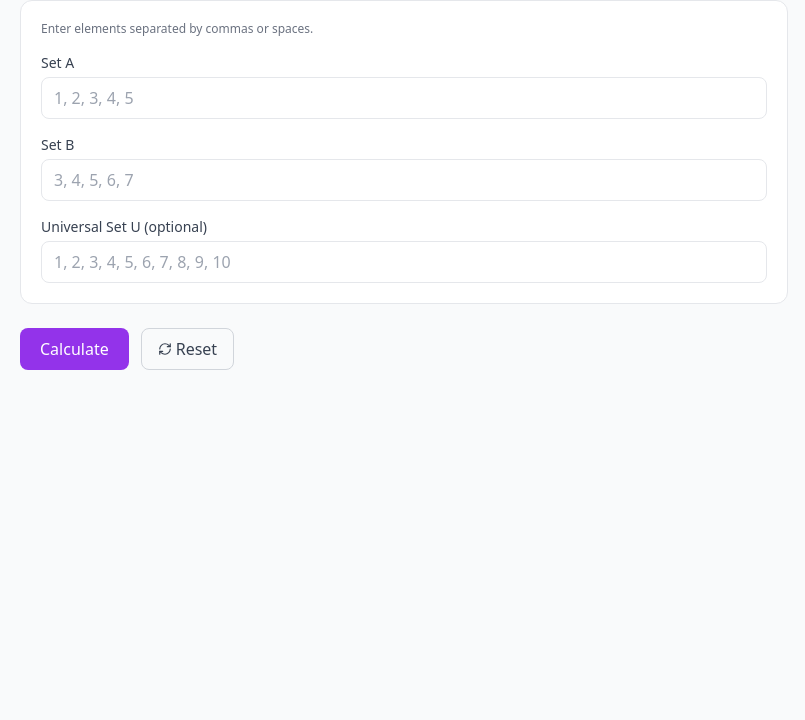
SetTheoryCalculator – functional › calculates set operations for two sets
The width and height of the screenshot is (805, 720).
Type "1, 2, 3, 4" into the field with placeholder "1, 2, 3, 4, 5".
click(404, 98); type("1, 2, 3, 4")  # box [41,77,767,119]
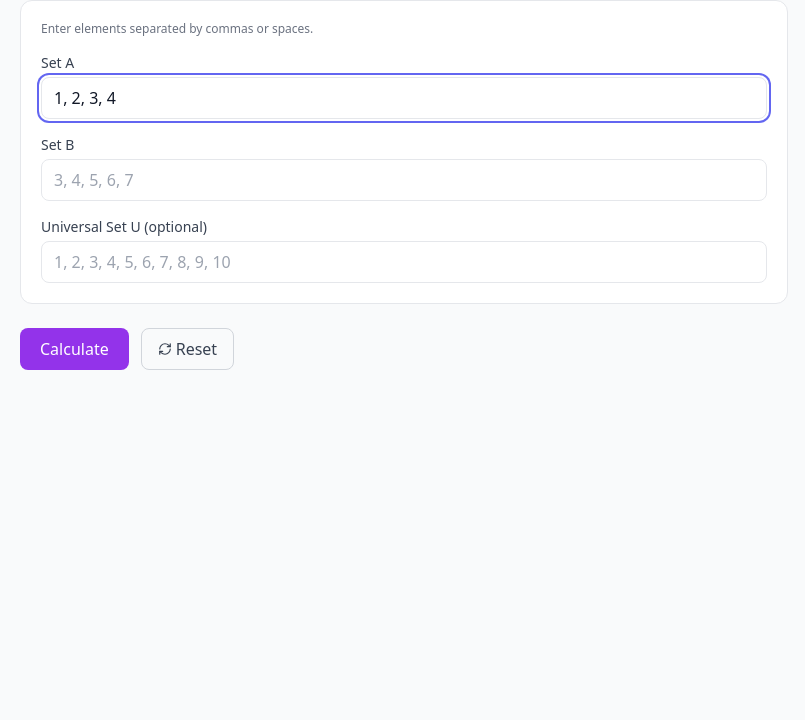
Type "3, 4, 5, 6" into the field with placeholder "3, 4, 5, 6, 7".
click(404, 180); type("3, 4, 5, 6")  # box [41,159,767,201]
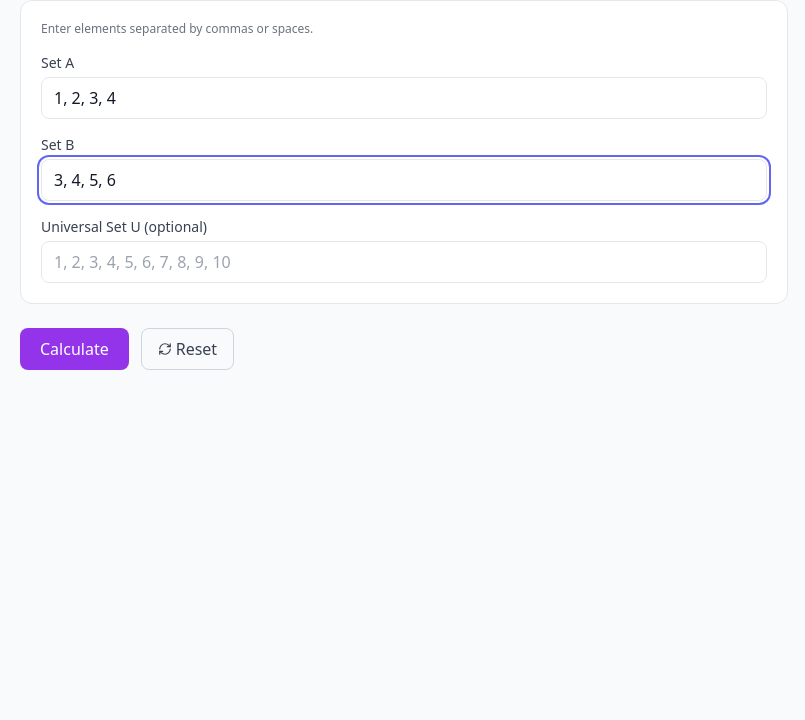
Click the button "Calculate".
click(74, 349)  # box [20,328,129,370]
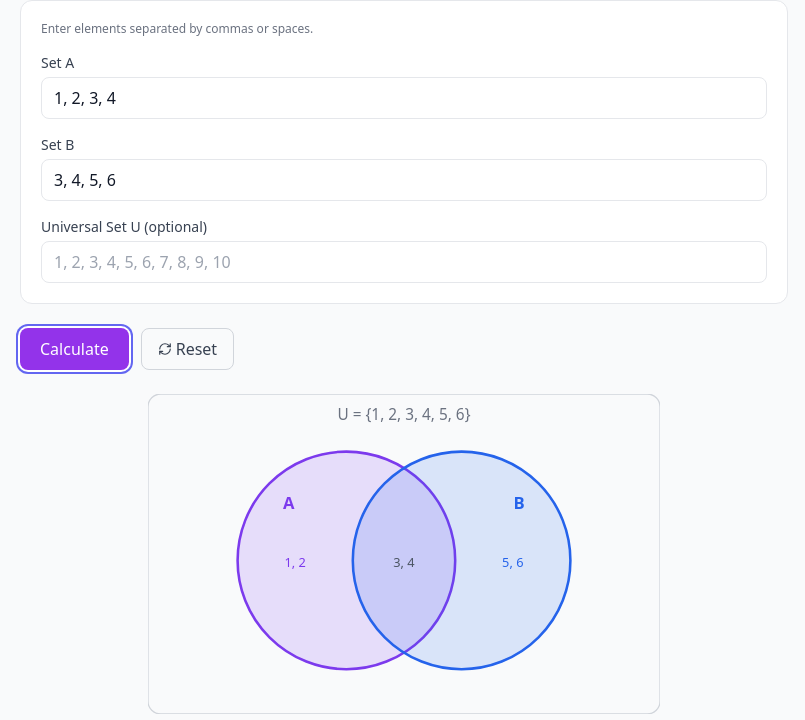
Check: the text "U = {1, 2, 3, 4, 5, 6} A B 1, 2 3, 4 5, 6" is shown, box [148,394,660,714]
